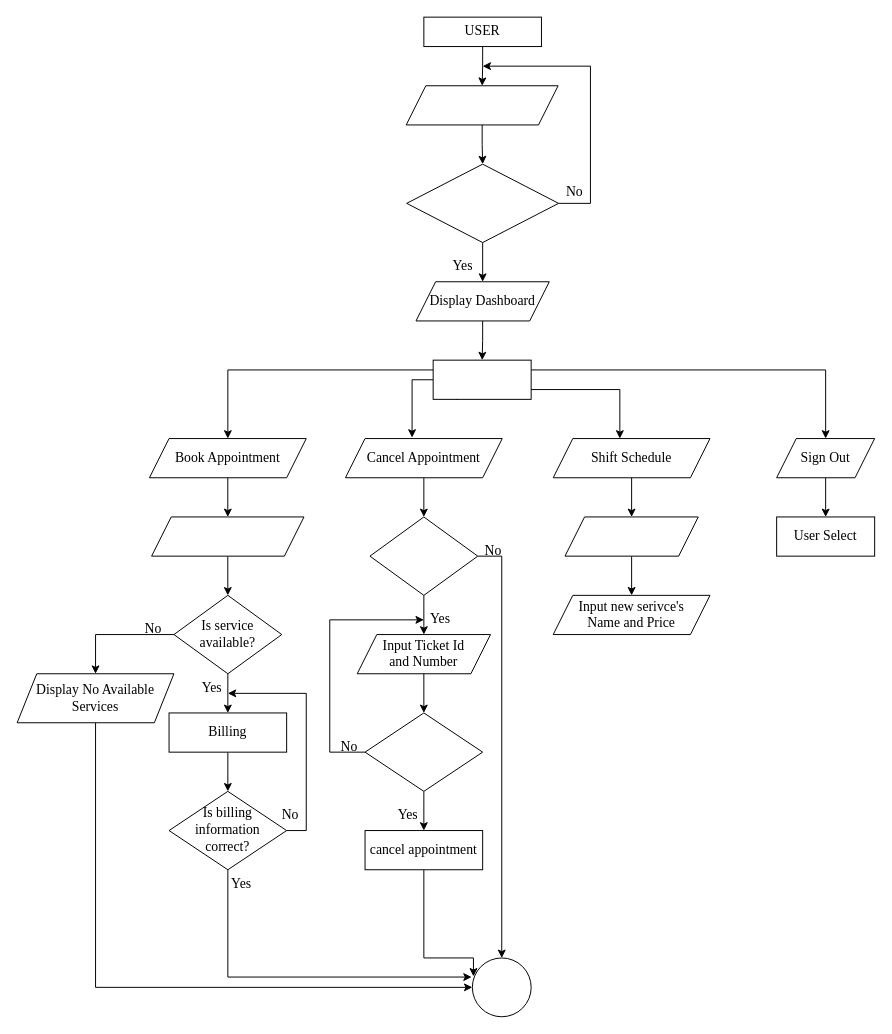
Image size: 892x1034. Some labels were removed from this diagram. Here are the shapes that lost their labels. From the top down, the centre of each, then its label:
At pixel 481 105: "Input username and password".
At pixel 482 203: "is username and password valid?".
At pixel 481 379: "Choose Option".
At pixel 227 536: "Which Service".
At pixel 423 555: "Confirm cancellation?".
At pixel 631 536: "Select Service".
At pixel 423 751: "valid ticket id and number?".
